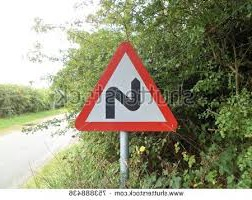Double_bend_right: (73, 41, 181, 132)
